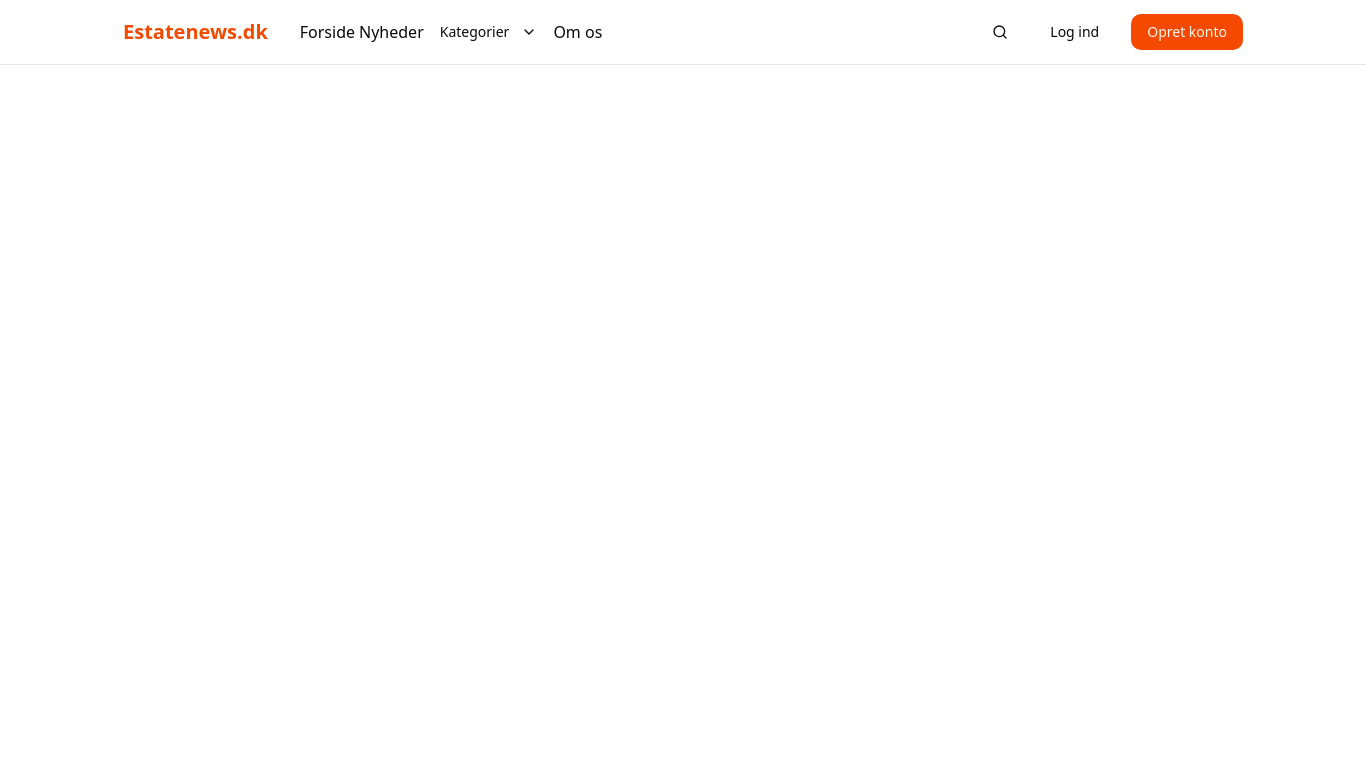
Test: Navigation › opens search dialog when clicking desktop search button
Click the button named "søg". click: [1000, 32]
box: [982,14,1018,50]
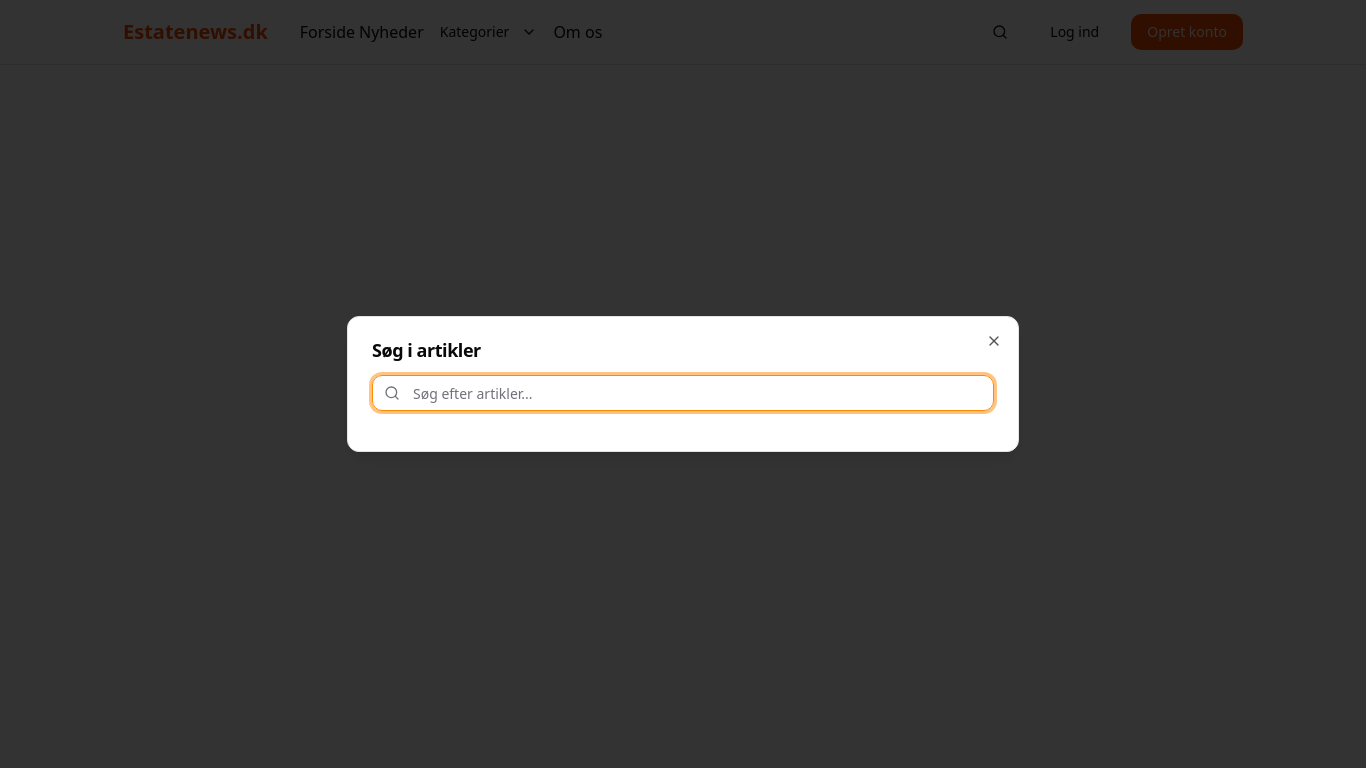
Check: the heading "Søg i artikler" is shown, box [372,338,481,362]
